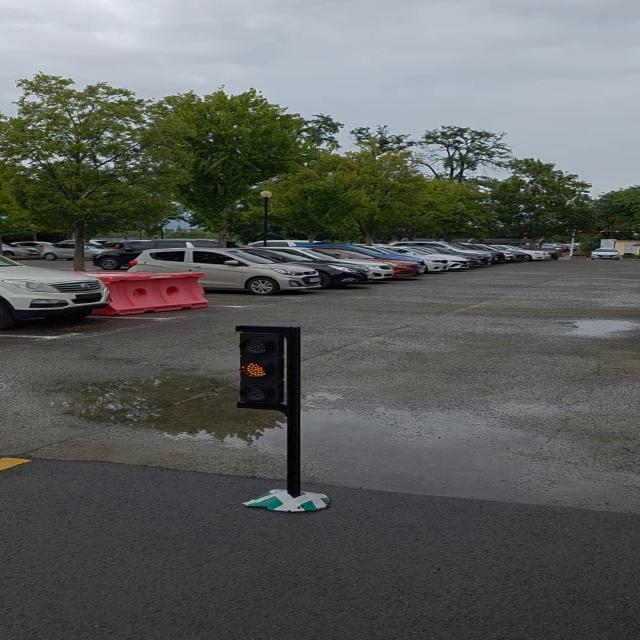yellow: (236, 328, 299, 414)
